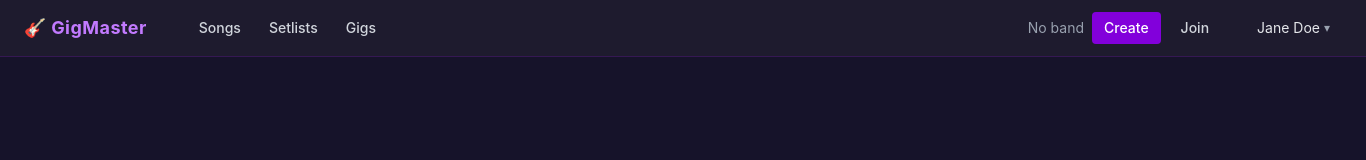
NavBar › user menu › closes on Escape
This screenshot has width=1366, height=160.
Click the button "Jane Doe ▾" at point(1294, 28), box [1245,12,1342,44]
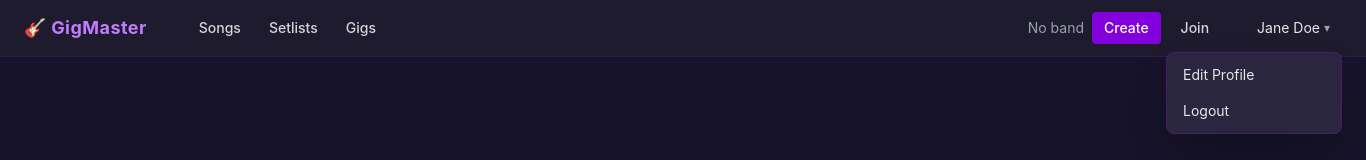
Result: the menu item "Edit Profile" is shown at [1167,57,1341,93]
Press Escape
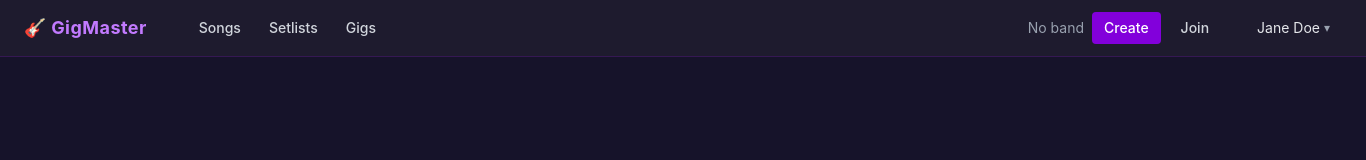
Result: the menu item "Edit Profile" is gone
